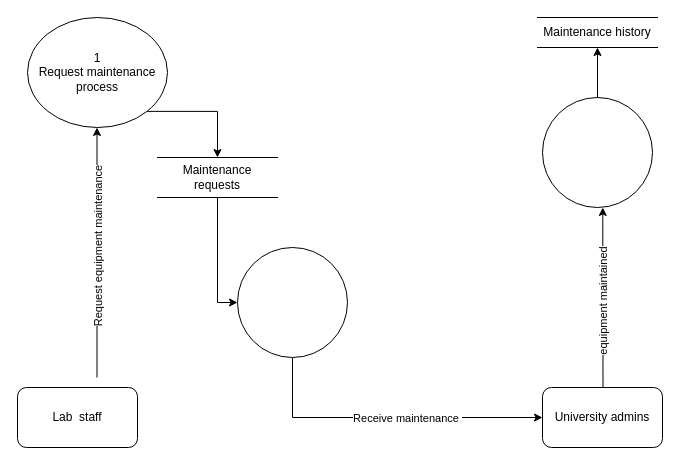
Image size: 680x465. Some labels were removed from this diagram. Here are the shapes that lost their labels. From the top down, the centre of each, then its label:
At pixel 597 152: "3 Check complete maintenance process".
At pixel 292 302: "2 Send maintenance request process".
